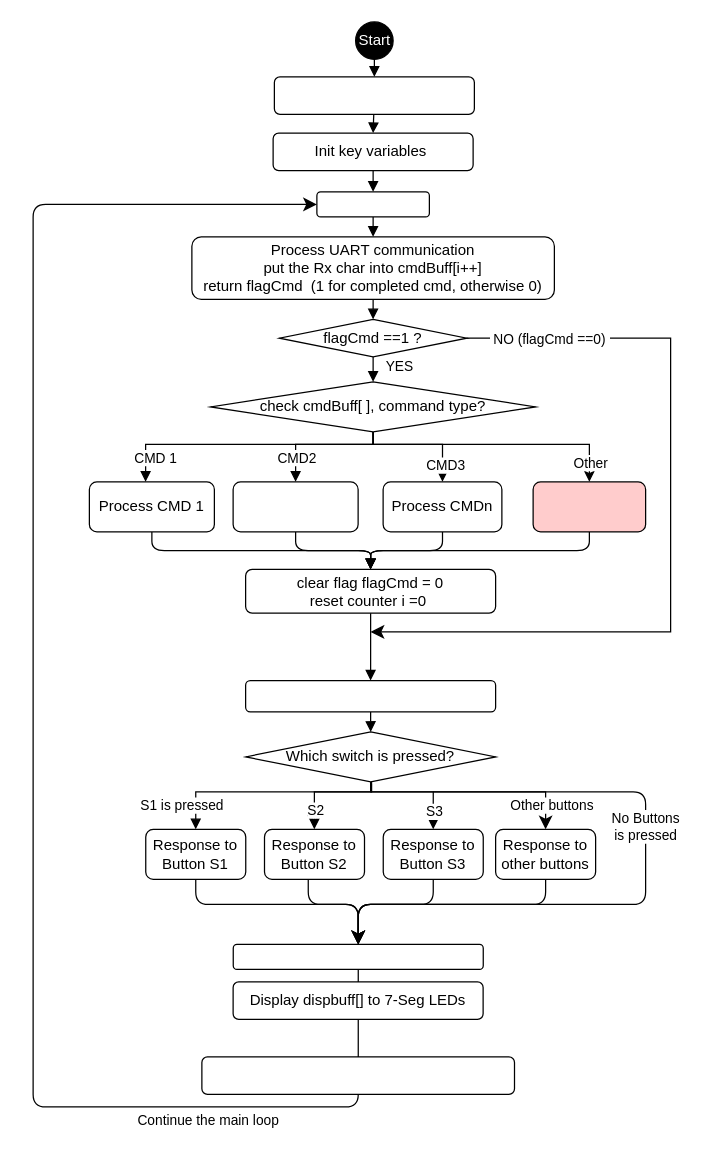
The diagram is 705 pixels wide and 1150 high, and some of its shapes have lost their labels. Each missing label, with the box of its shape:
Init UART, GPIO, .... Drivers: (273, 76, 474, 114)
Other tasks? (e.g. update clock values ...): (201, 1056, 514, 1094)
Process CMD2: (232, 481, 358, 532)
Process Invalid CMD: (532, 481, 646, 532)
Read button: (244, 679, 496, 712)
update dispbuff[ ] if necessary: (232, 943, 483, 969)
while(1) loop: (316, 191, 429, 217)
